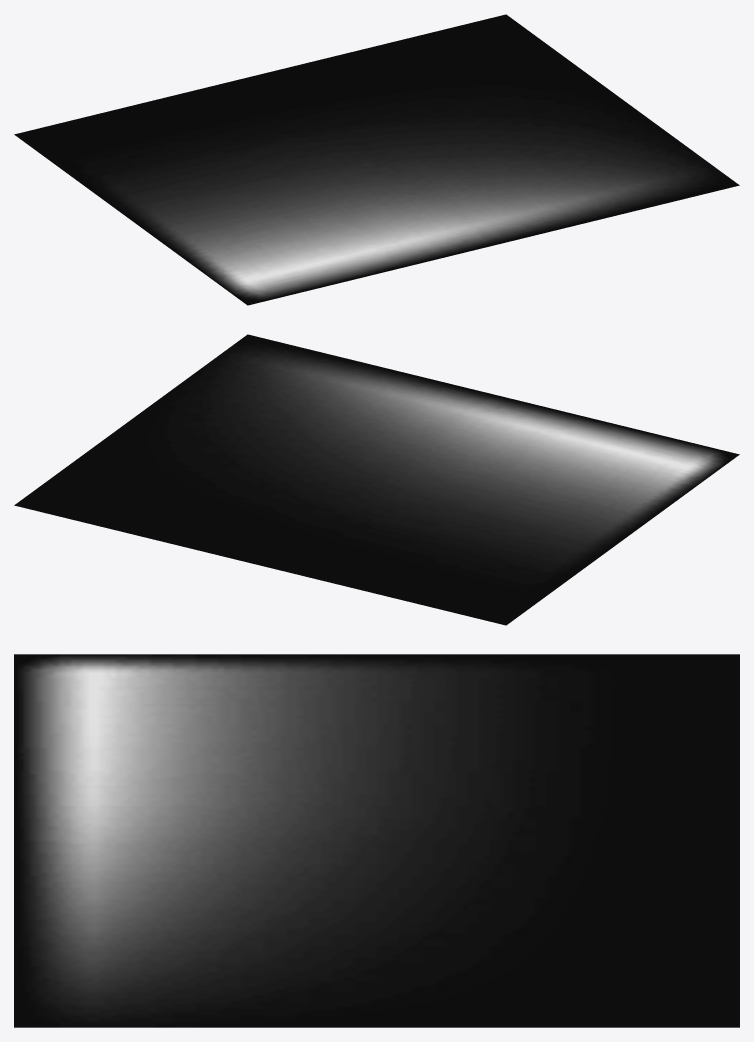
Rendered from 0197_XiaoZhiDeRenHeJiaWa_SkillC_Mesh_03.glb.
3 renders of one model, top to bottom at view 1: azimuth 30°, elevation 25°; view 2: azimuth 150°, elevation 25°; view 3: azimuth 270°, elevation 25°, orthographic. The views are drawn at different scales.
Bounding box in the file's own units: 2.2 × 0 × 1.81.
1 material, 1 textured.
